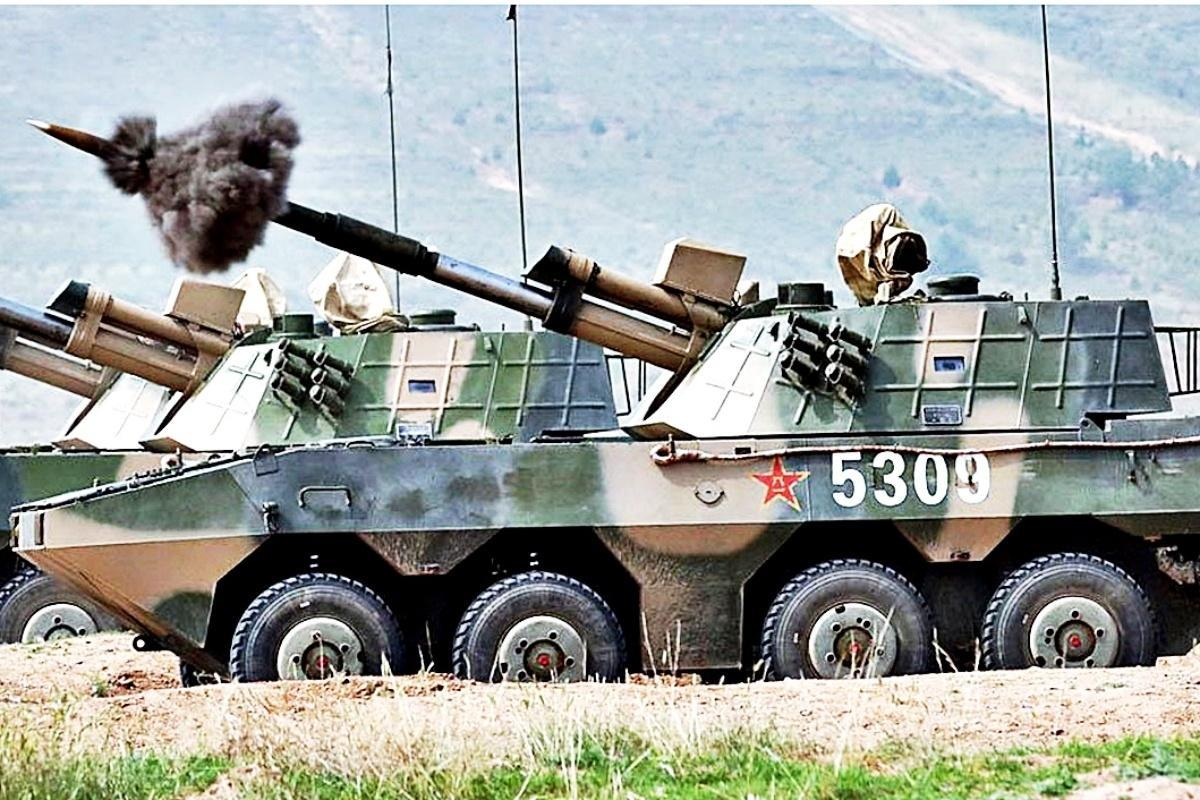MIL_IFV: (9, 265, 1185, 692)
